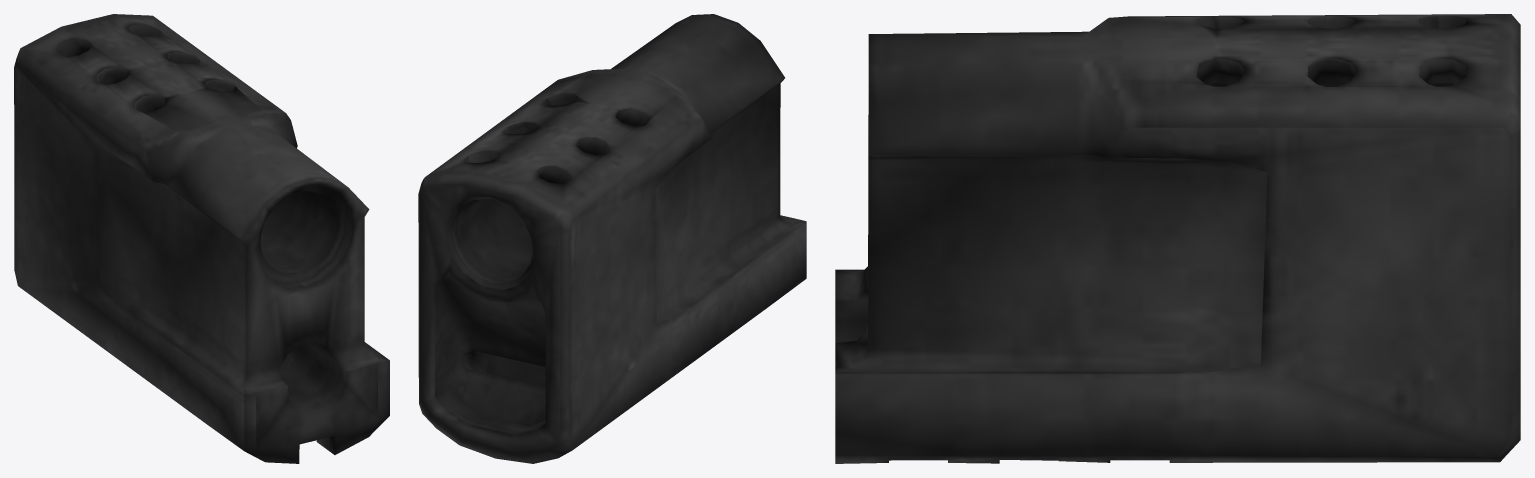
Rendered from CompensatorHandgun.fbx.
The picture shows the model from 3 angles, left to right: view 1: azimuth 30°, elevation 25°; view 2: azimuth 150°, elevation 25°; view 3: azimuth 270°, elevation 25°; orthographic projection. The views are drawn at different scales.
Parts seen in each view (by area): view 1: ReducedCompensator; view 2: ReducedCompensator; view 3: ReducedCompensator.
Part boxes in pixels (box(x1,y1,x2,y2)): ReducedCompensator: box(14, 14, 389, 463); ReducedCompensator: box(418, 14, 806, 463); ReducedCompensator: box(835, 14, 1520, 463).
Size of the model in its own units: 0.0201 by 0.0359 by 0.0558.
